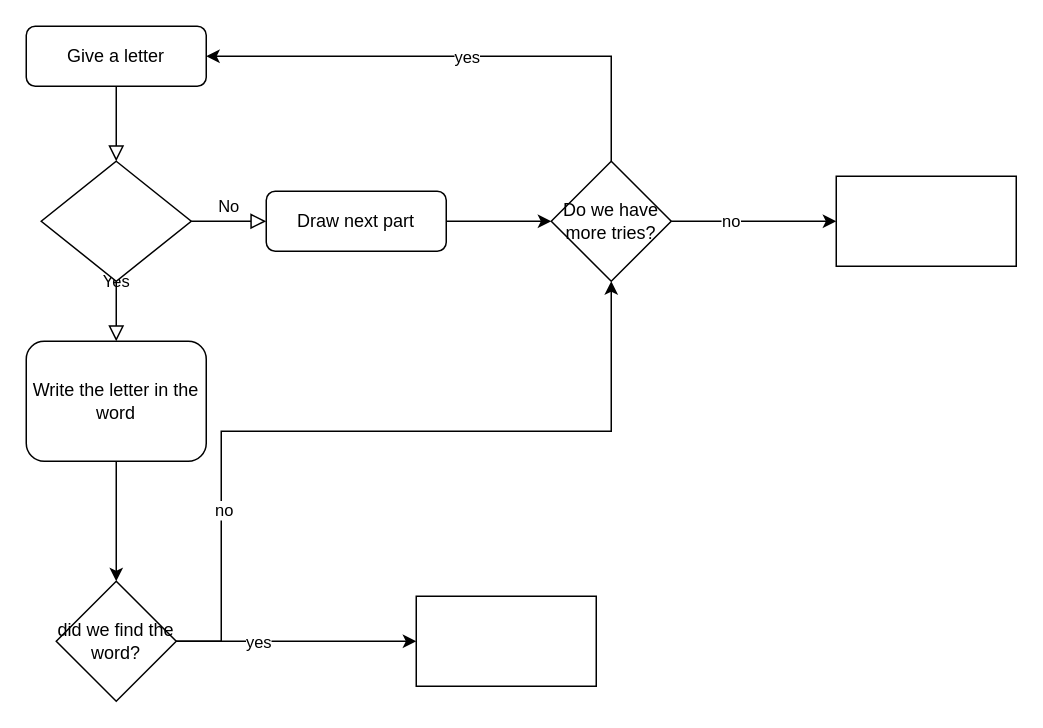
Image size: 1043x728. Some labels were removed from this diagram. Each missing label, with the centre of its shape:
Is the letter contained in the word?: (x=115, y=220)
you loose: (x=925, y=220)
you win: (x=505, y=640)
